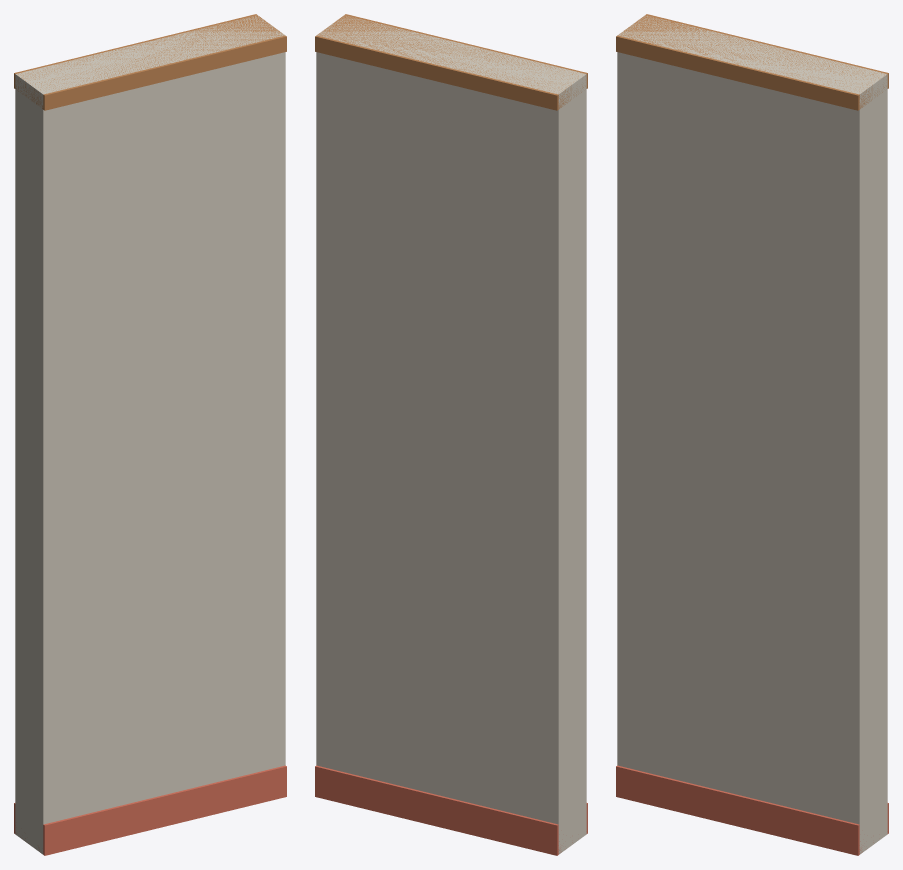
File: bakery_loft_wall_1m.glb
3 views of the same model, side by side, from view 1: azimuth 30°, elevation 25°; view 2: azimuth 150°, elevation 25°; view 3: azimuth 330°, elevation 25° (orthographic).
Visible parts, largest first — view 1: bakery_loft_wall_1m; view 2: bakery_loft_wall_1m; view 3: bakery_loft_wall_1m.
Part boxes in pixels (x1=…): bakery_loft_wall_1m: x1=14, y1=14, x2=286, y2=855; bakery_loft_wall_1m: x1=315, y1=14, x2=587, y2=855; bakery_loft_wall_1m: x1=616, y1=14, x2=888, y2=855.
Bounding box in the file's own units: 1 × 3 × 0.22.
